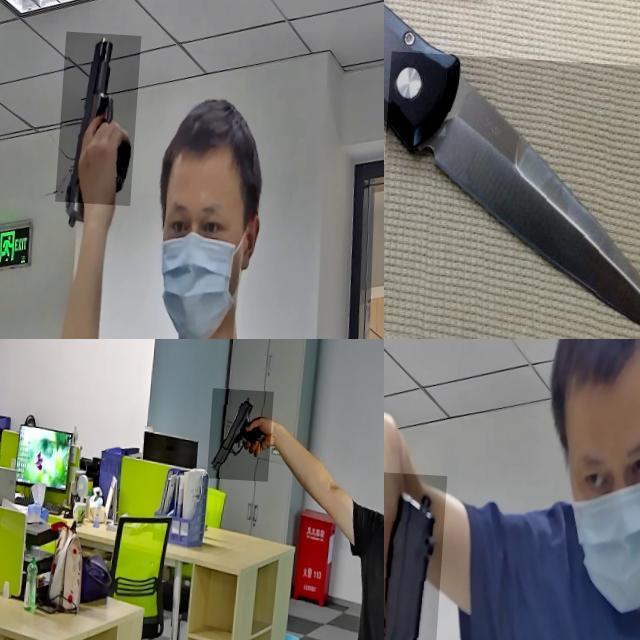-: (384, 47, 640, 339)
gun-knife-thesis - v11 Yolov5 augmented: (60, 29, 144, 202), (384, 465, 457, 640), (210, 386, 276, 478)
